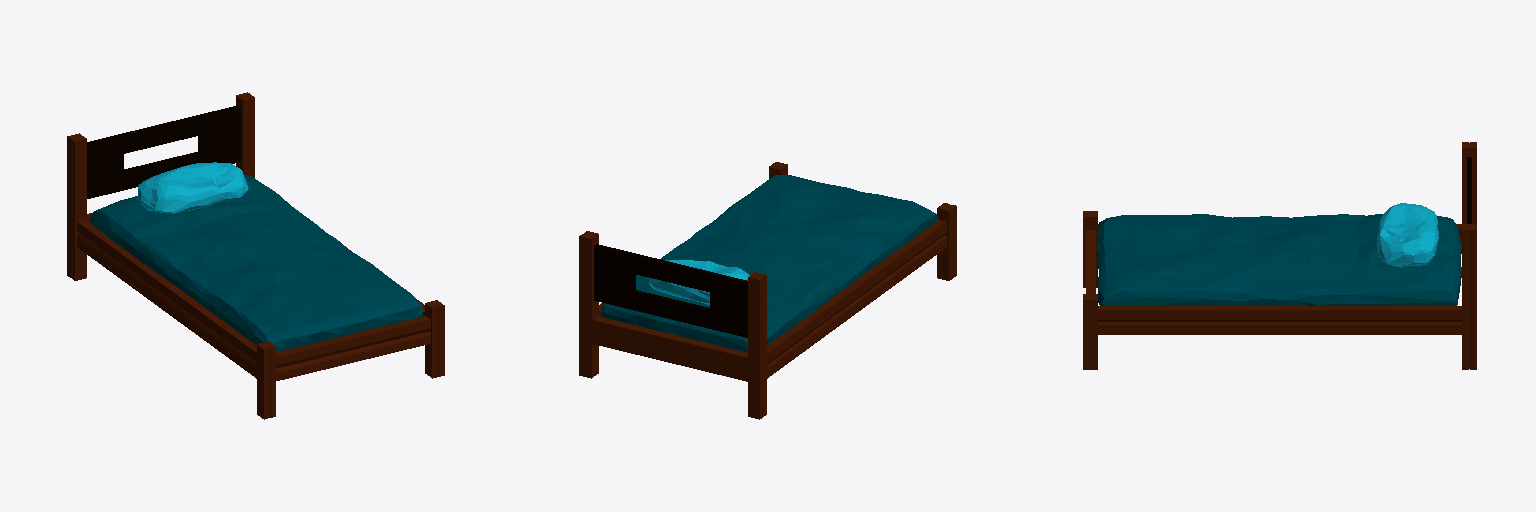
Rendered from bed2.obj.
3 views of the same model, side by side, from view 1: azimuth 30°, elevation 25°; view 2: azimuth 150°, elevation 25°; view 3: azimuth 270°, elevation 25° (orthographic).
Visible parts, largest first — view 1: Cube_001_Cube.003, Cube_Cube.002, Icosphere; view 2: Cube_Cube.002, Cube_001_Cube.003, Icosphere; view 3: Cube_001_Cube.003, Cube_Cube.002, Icosphere.
Boxes of the visible parts, box(x1,y1,x2,y2) form: Cube_001_Cube.003: box(90, 175, 422, 351); Cube_Cube.002: box(67, 92, 444, 419); Icosphere: box(137, 162, 248, 213); Cube_Cube.002: box(579, 162, 956, 419); Cube_001_Cube.003: box(602, 175, 937, 352); Icosphere: box(649, 260, 749, 304); Cube_001_Cube.003: box(1097, 214, 1461, 305); Cube_Cube.002: box(1083, 142, 1476, 369); Icosphere: box(1377, 203, 1438, 267).
Bounding box in the file's own units: 6.92 × 5.1 × 13.04.